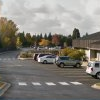crosswalk: (18, 81, 81, 85), (0, 57, 15, 60)
